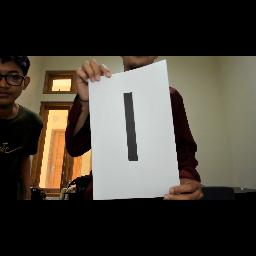i: (115, 87, 151, 173)
